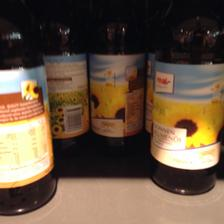Oel: (148, 4, 224, 196), (0, 0, 56, 215), (85, 1, 147, 151), (36, 0, 88, 148)
